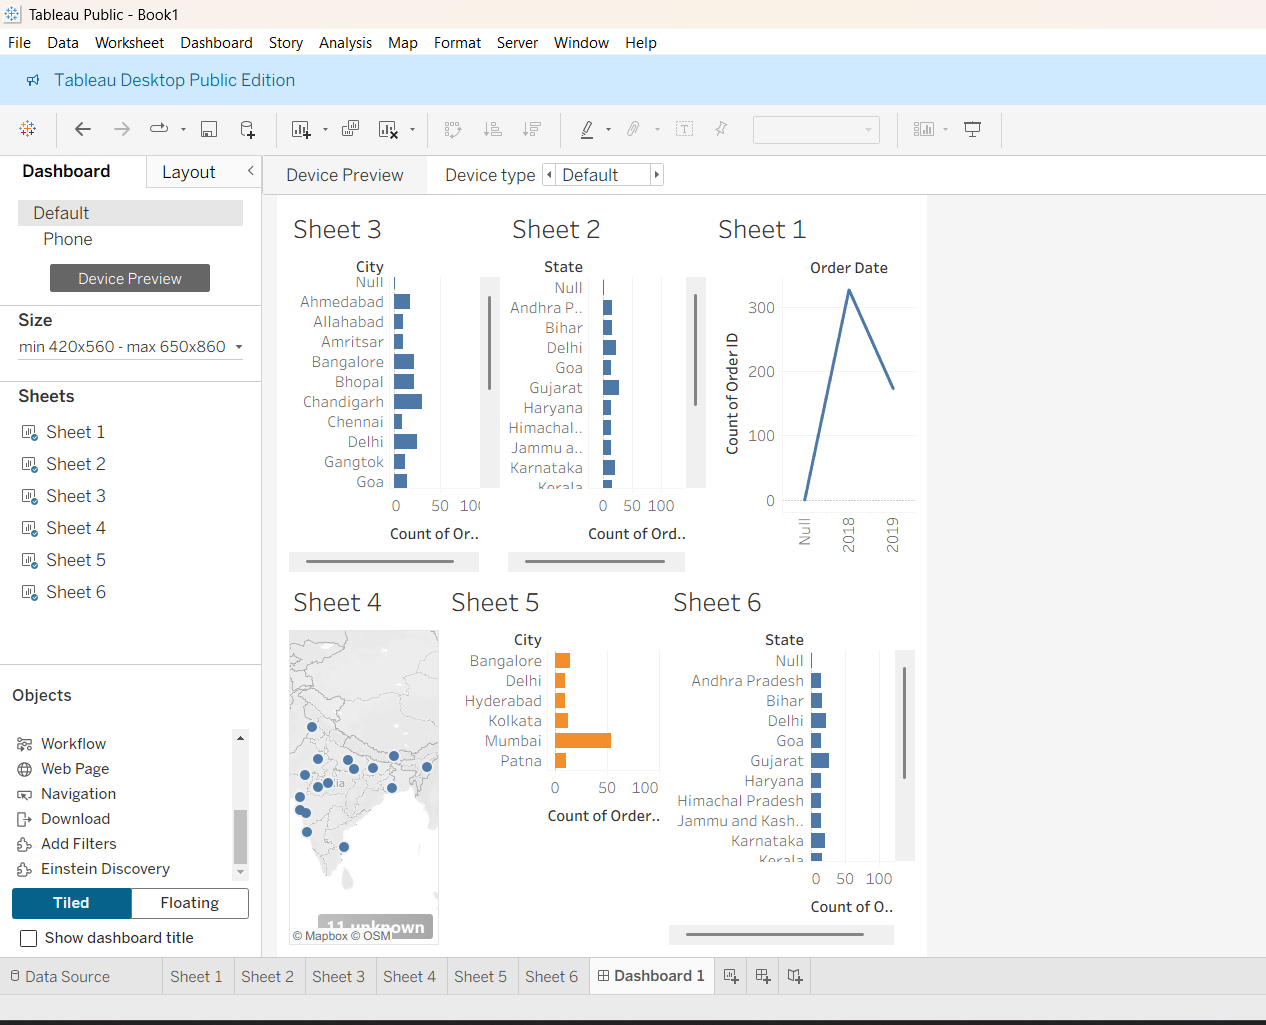

The page's visual inventory and layout, read from the dashboard file:
{"tool":"tableau","page":{"name":"Dashboard 1","canvas":[650,860],"ordinal":0},"visuals":[{"type":"worksheet","title":"Sheet 3","mark":"Automatic","rows":["City"],"cols":["Order ID"],"box":[8,9,219,421]},{"type":"worksheet","title":"Sheet 2","mark":"Automatic","rows":["State"],"cols":["Order ID"],"box":[227,9,206,421]},{"type":"worksheet","title":"Sheet 1","mark":"Automatic","rows":["Order ID"],"cols":["Order Date"],"box":[433,9,209,421]},{"type":"worksheet","title":"Sheet 4","mark":"Automatic","box":[8,430,158.5,421]},{"type":"worksheet","title":"Sheet 5","mark":"Automatic","rows":["City"],"cols":["Order Date"],"box":[166.5,430,221.5,421]},{"type":"worksheet","title":"Sheet 6","mark":"Automatic","rows":["State"],"cols":["Order Date"],"box":[388,430,254,421]}]}

Visuals, with their boxes on the page's 650x860 design canvas (x1, y1, x2, y2). These are canvas units, not pixel positions in the 1266x1025 screenshot, which may show the page scaled, cropped or inside an application window:
"Sheet 3" worksheet: crop(8, 9, 227, 430)
"Sheet 2" worksheet: crop(227, 9, 433, 430)
"Sheet 1" worksheet: crop(433, 9, 642, 430)
"Sheet 4" worksheet: crop(8, 430, 166, 851)
"Sheet 5" worksheet: crop(166, 430, 388, 851)
"Sheet 6" worksheet: crop(388, 430, 642, 851)
